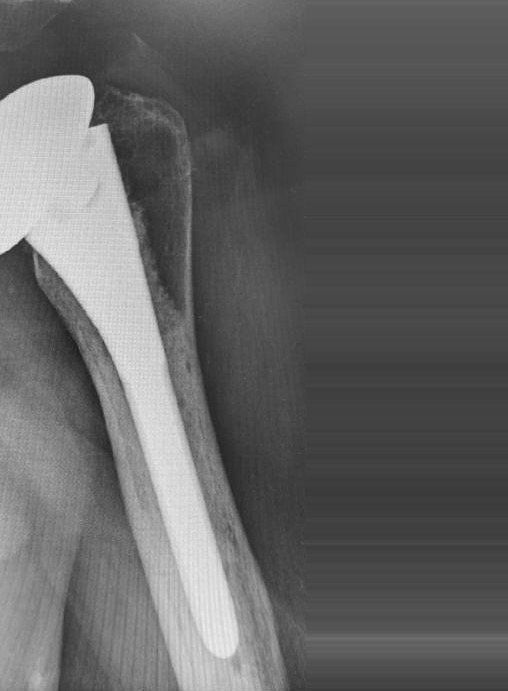Shoulder - Anotomical - Stryker: (1, 69, 144, 257)
